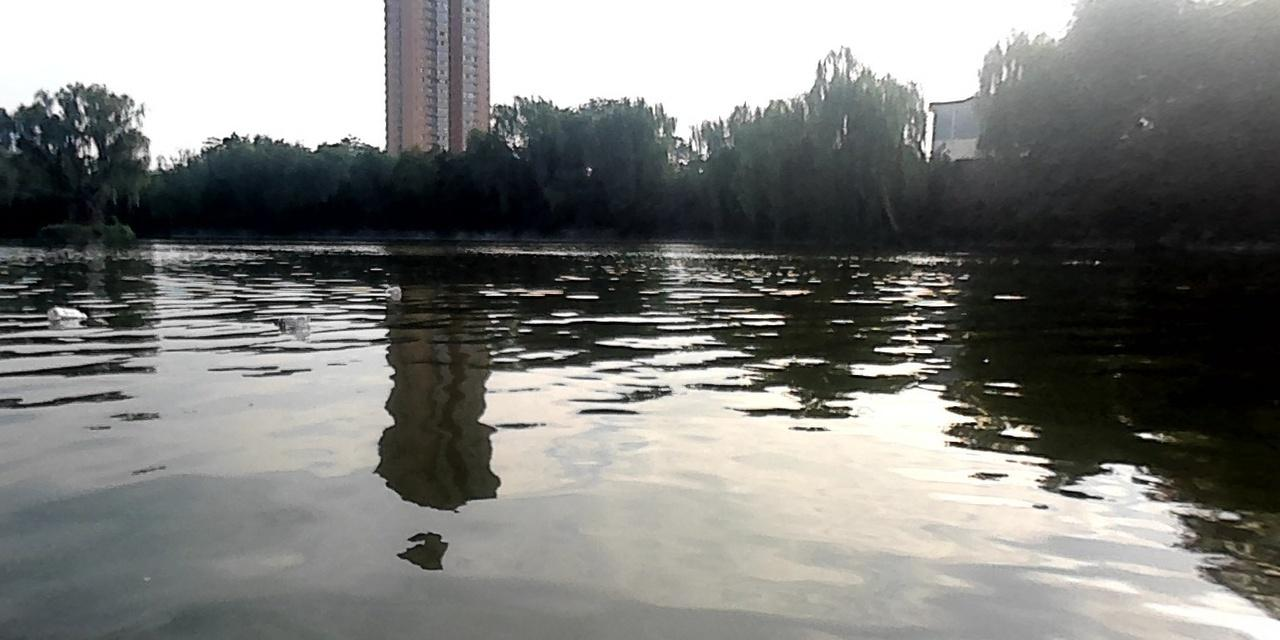bottle: (270, 311, 309, 331), (46, 305, 87, 322), (383, 285, 400, 299)
